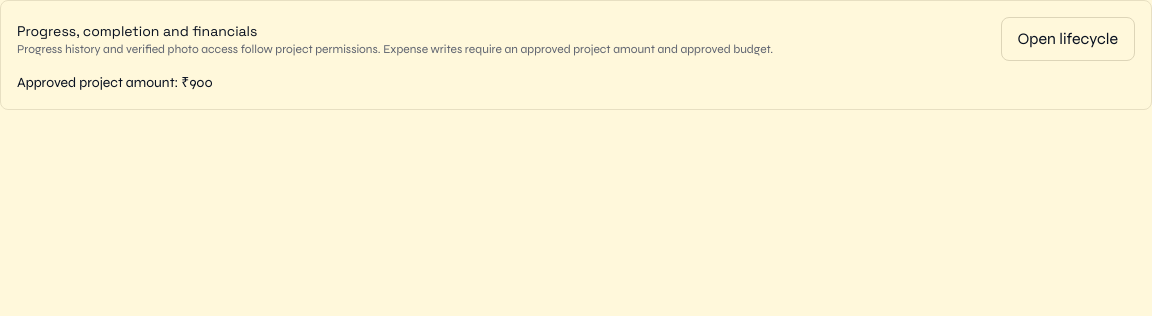
it: ProjectLifecyclePanel › keeps the panel hidden for residents and does not give owners write controls
Later steps or results of the test are not shown.
Click the button "Open lifecycle": (1068, 39) 1000,17 -> 1135,61
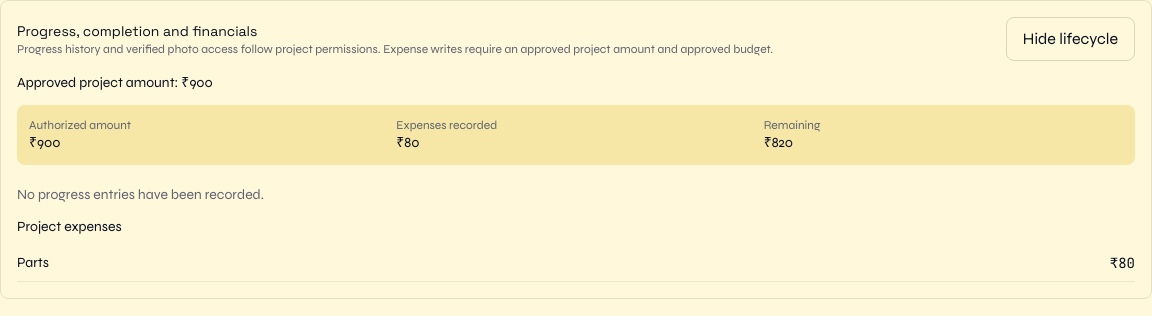
Result: the text "Parts" is shown at 17,253 -> 49,273
